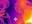Hotspot: (25, 13, 32, 23)
